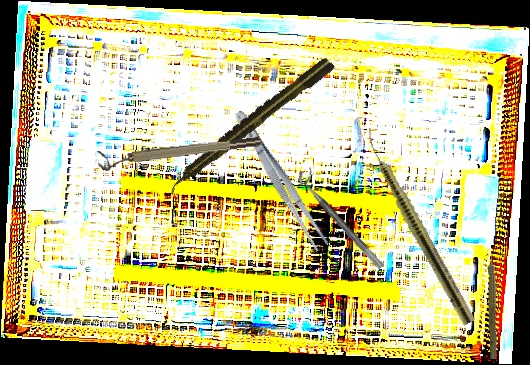Dressing Forceps: (229, 106, 332, 254)
Fixation Ring: (294, 164, 393, 271), (96, 133, 263, 173)
Handpiece: (162, 54, 337, 197), (356, 126, 479, 327), (486, 245, 501, 360)
